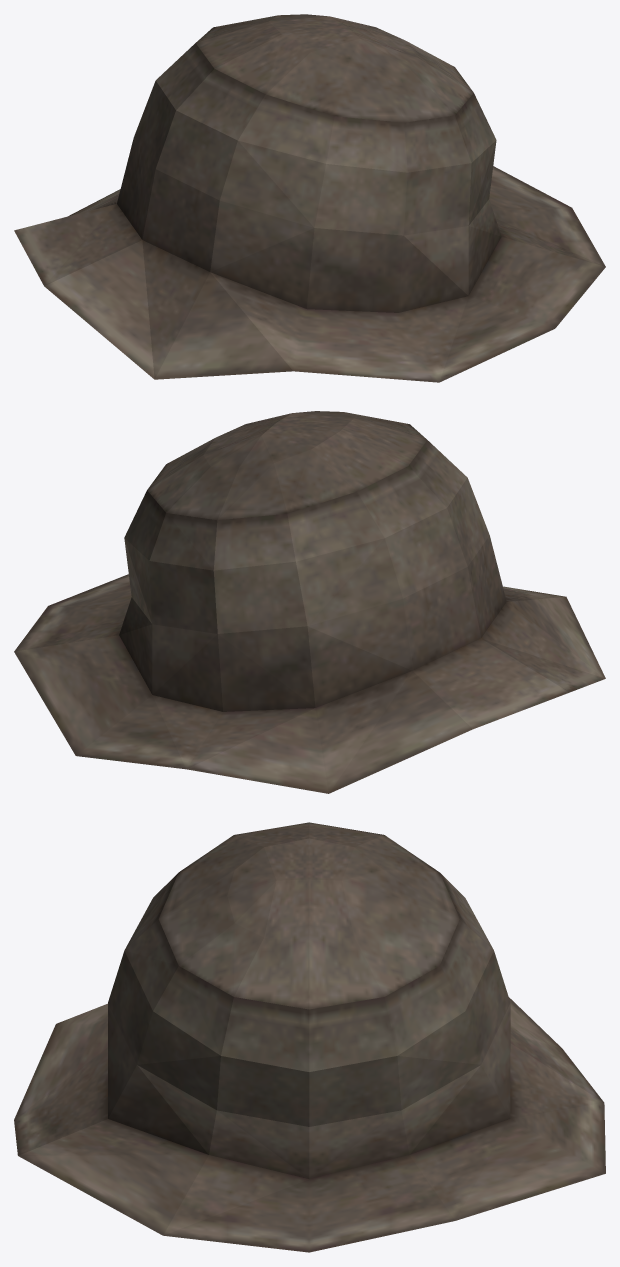
The model's file is Penguin_beggarHat.obj.
3 renders of one model, top to bottom at view 1: azimuth 30°, elevation 25°; view 2: azimuth 150°, elevation 25°; view 3: azimuth 270°, elevation 25°, orthographic. The views are drawn at different scales.
Parts seen in each view (by area): view 1: Penguin_beggarHat_tri; view 2: Penguin_beggarHat_tri; view 3: Penguin_beggarHat_tri.
Boxes of the visible parts, <box> form: Penguin_beggarHat_tri: <box>14,14,605,382</box>; Penguin_beggarHat_tri: <box>14,411,605,793</box>; Penguin_beggarHat_tri: <box>14,822,605,1252</box>.
Size of the model in its own units: 0.5948 by 0.2746 by 0.5433.
Materials: 1 (1 with a texture image).
